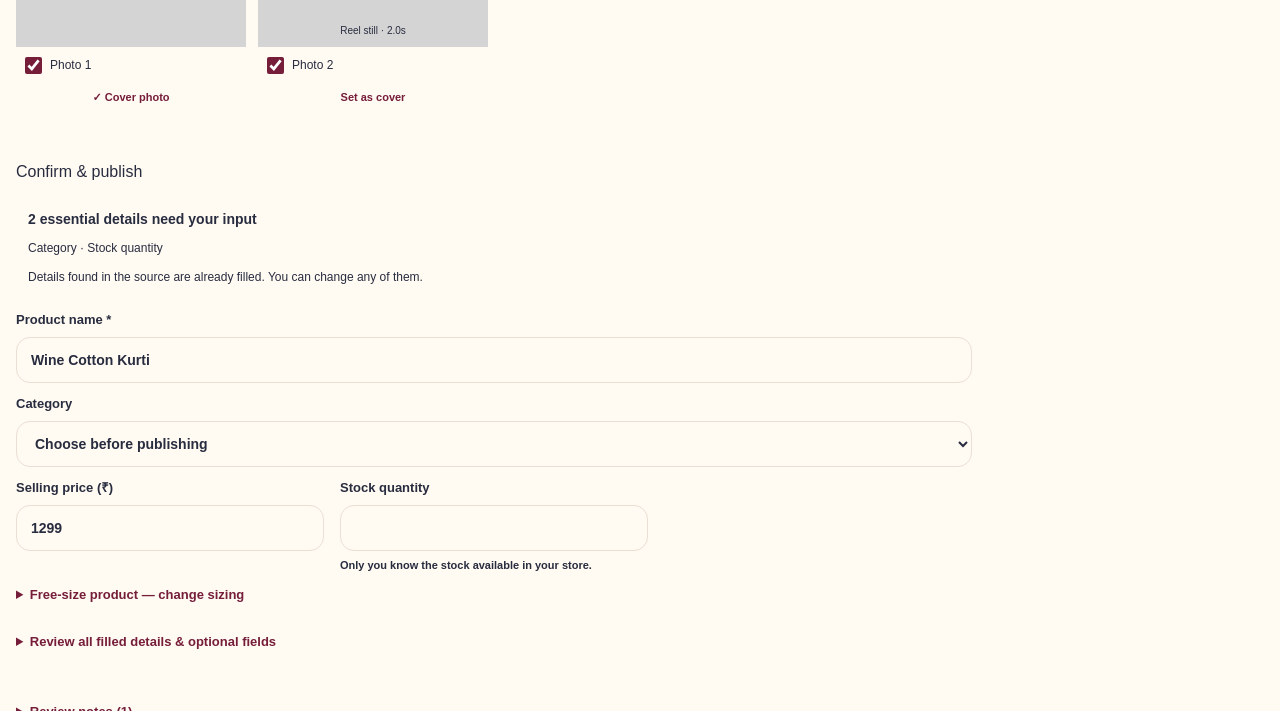
gallery selection and cover choice are saved with edited details as a draft
The image size is (1280, 711).
(page scrolled)
Expected: the number field labelled "Stock quantity" is not empty, [340,505,648,551]
Replace the text in the field labelled "Product name *" with "Edited Product Name": (494, 360) [16,337,972,383]
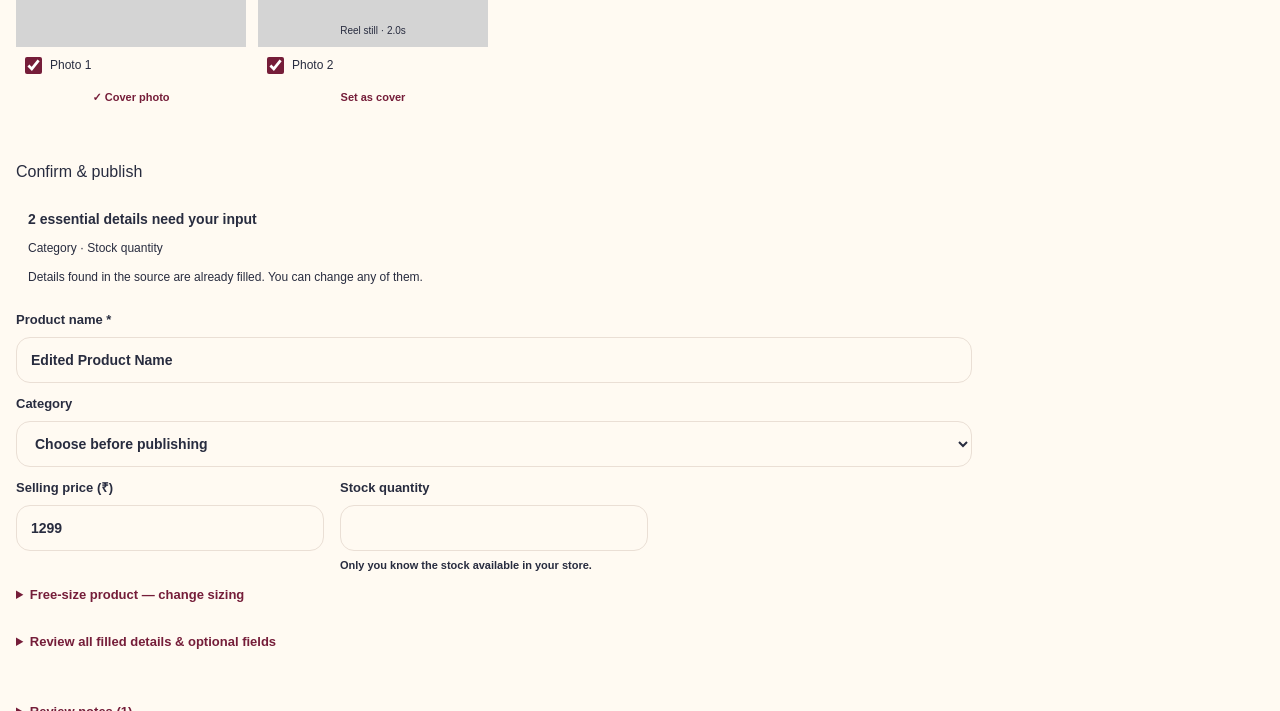
In the number field labelled "Stock quantity": (494, 528) [340,505,648,551], type "12"
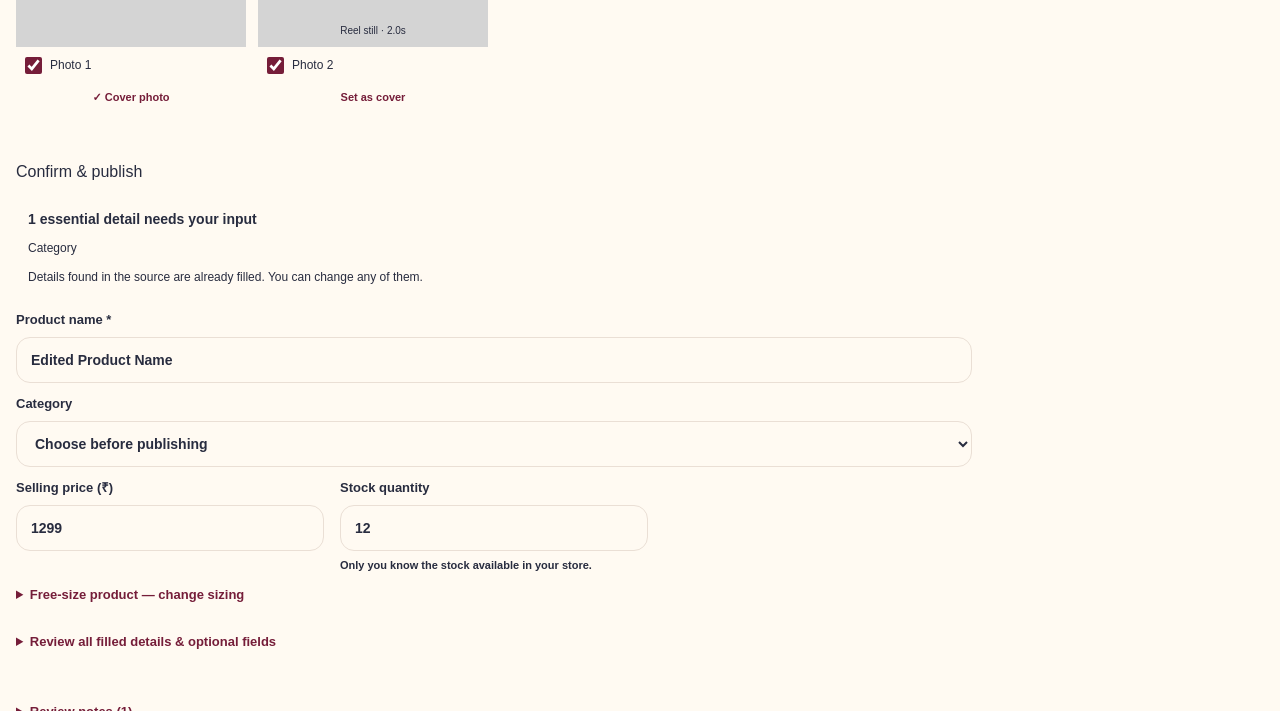
Click the checkbox named "Select photo 1": click(34, 65) [25,57,42,74]
(page scrolled)
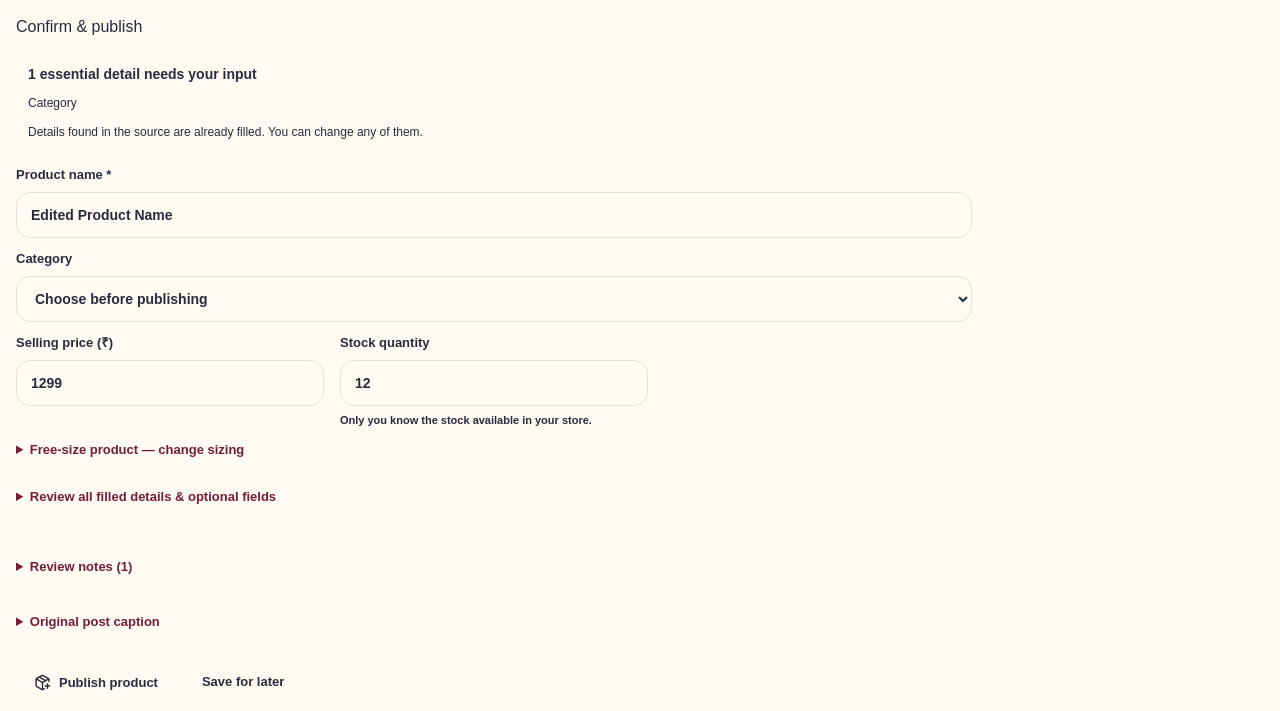
Click the button "Save for later": click(243, 682) [186,660,300,704]
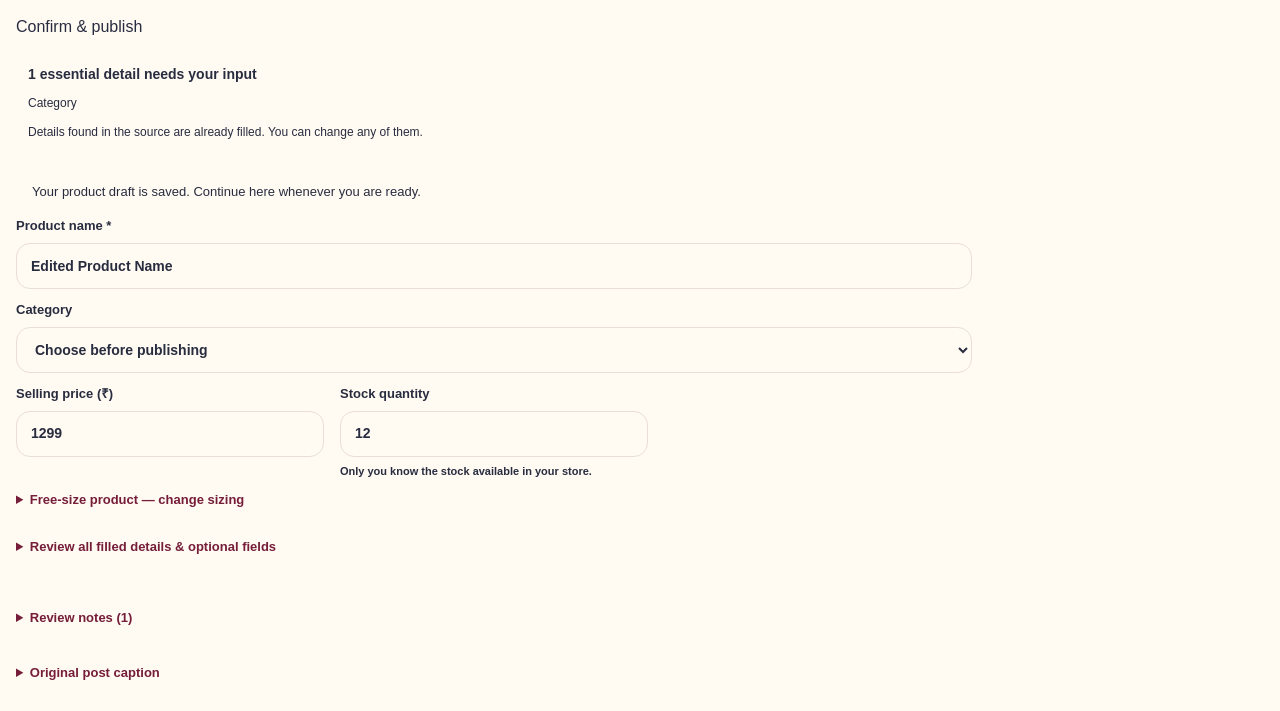
Expected: the text "Your product draft is saved. Continue here whenever you are ready." is shown, [16,168,972,217]
